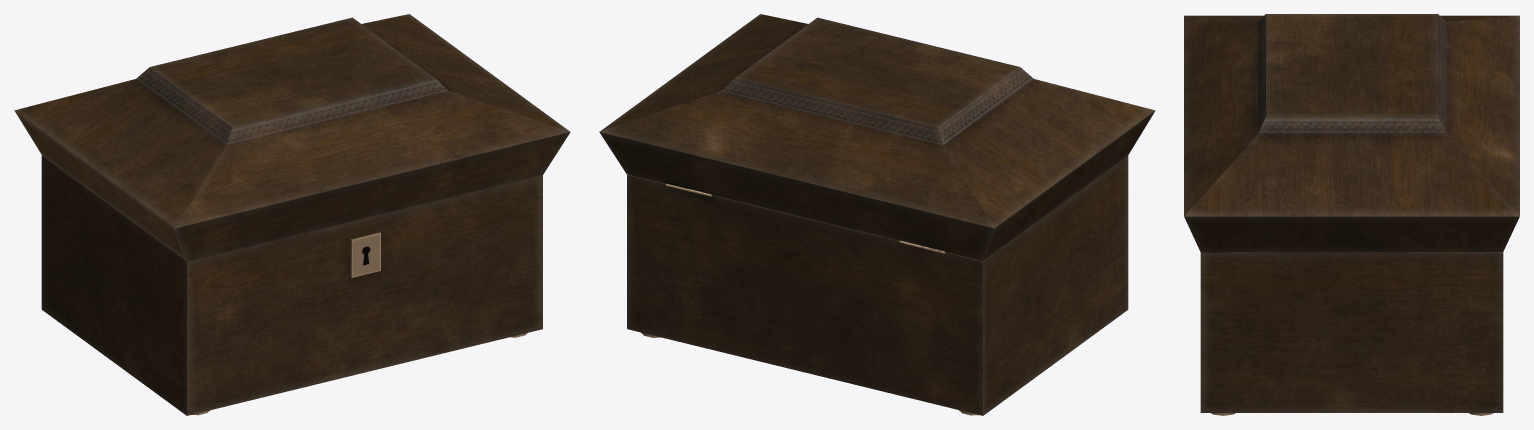
Rendered from casket.FBX.
3 renders of one model, left to right at view 1: azimuth 30°, elevation 25°; view 2: azimuth 150°, elevation 25°; view 3: azimuth 270°, elevation 25°, orthographic. The views are drawn at different scales.
Parts seen in each view (by area): view 1: cap, casket; view 2: cap, casket; view 3: cap, casket.
Part boxes in pixels (bbox=[...]): cap: bbox=[14, 14, 570, 261]; casket: bbox=[41, 155, 542, 415]; cap: bbox=[599, 14, 1155, 261]; casket: bbox=[627, 156, 1128, 415]; cap: bbox=[1184, 14, 1519, 252]; casket: bbox=[1200, 252, 1503, 415].
Bounding box in the file's own units: 0.1608 × 0.0979 × 0.1136.
1 material, 1 textured.
